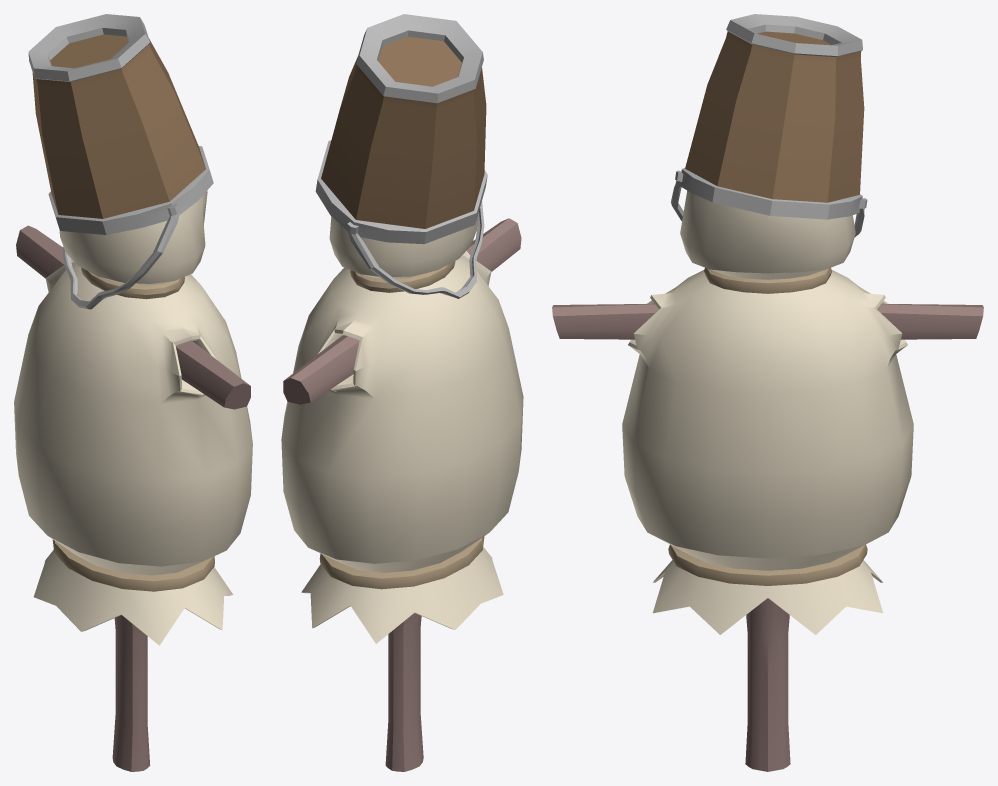
File: training-dummy.fbx
The picture shows the model from 3 angles, left to right: view 1: azimuth 30°, elevation 25°; view 2: azimuth 150°, elevation 25°; view 3: azimuth 270°, elevation 25°; orthographic projection.
Visible parts, largest first — view 1: training-dummy, bucket; view 2: training-dummy, bucket; view 3: training-dummy, bucket.
Boxes of the visible parts, bbox=[...] form: training-dummy: bbox=[14, 191, 252, 771]; bucket: bbox=[28, 14, 213, 309]; training-dummy: bbox=[281, 215, 523, 771]; bucket: bbox=[315, 14, 487, 298]; training-dummy: bbox=[552, 191, 983, 771]; bucket: bbox=[671, 14, 867, 236].
Bounding box in the file's own units: 142 × 516 × 275.
